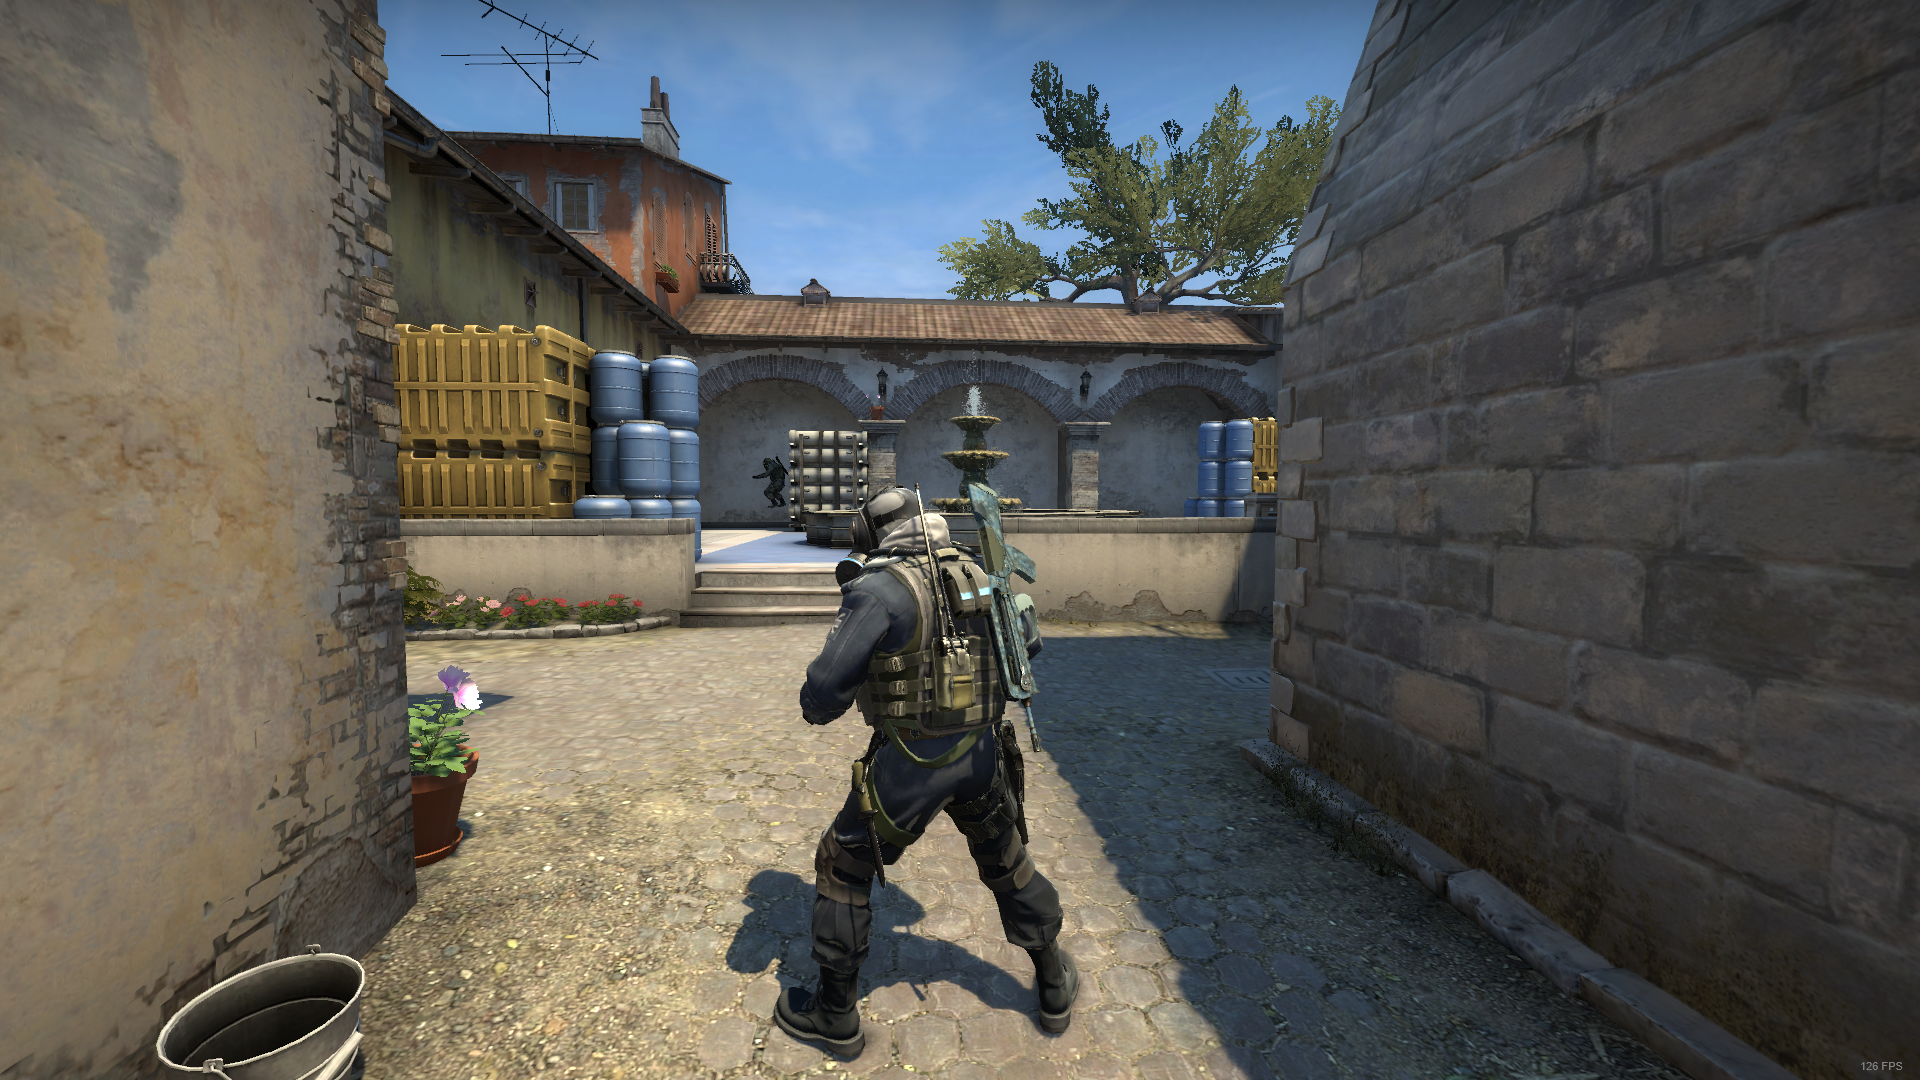ct: (770, 480, 1095, 1064)
